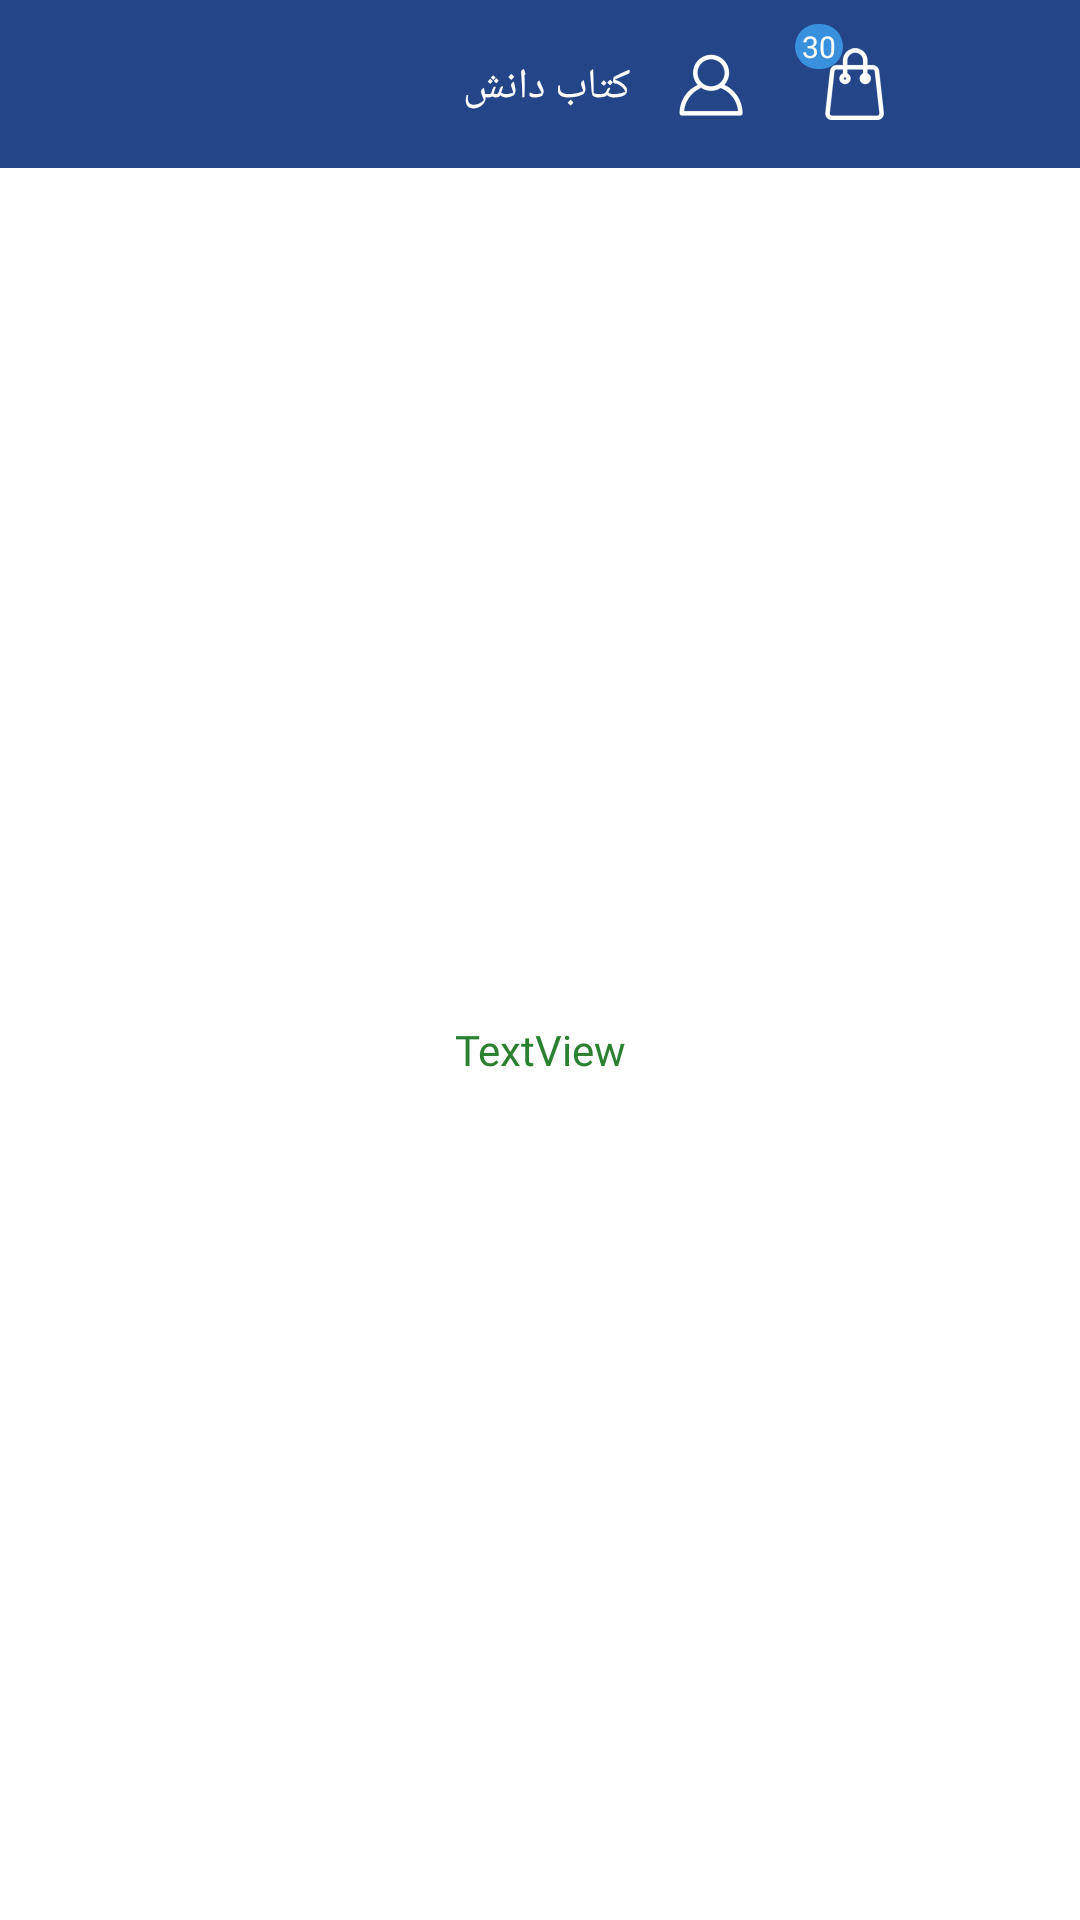

Icons on this 1080×1920 Android screen, each with its box as rect(x1, y1, x2, y2):
profile: rect(679, 54, 743, 116)
